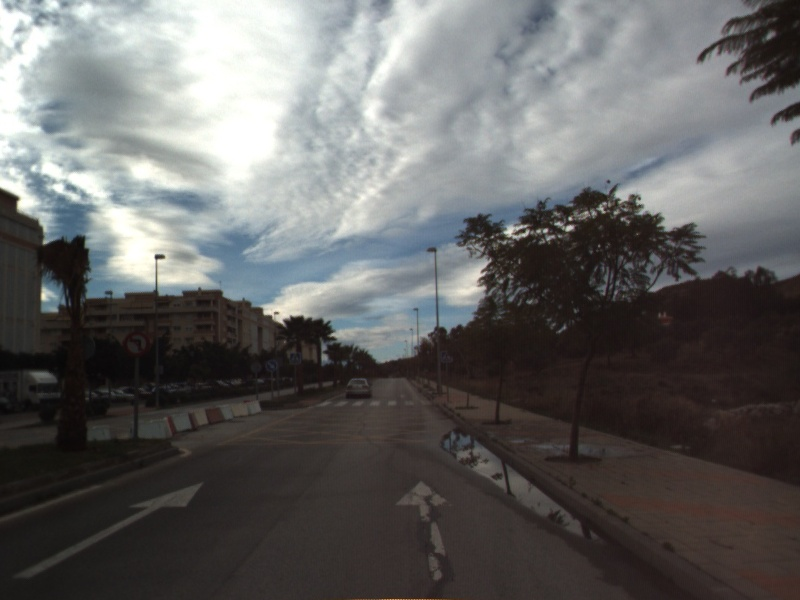STRAIGHT: (10, 480, 206, 581), (393, 478, 457, 584)
